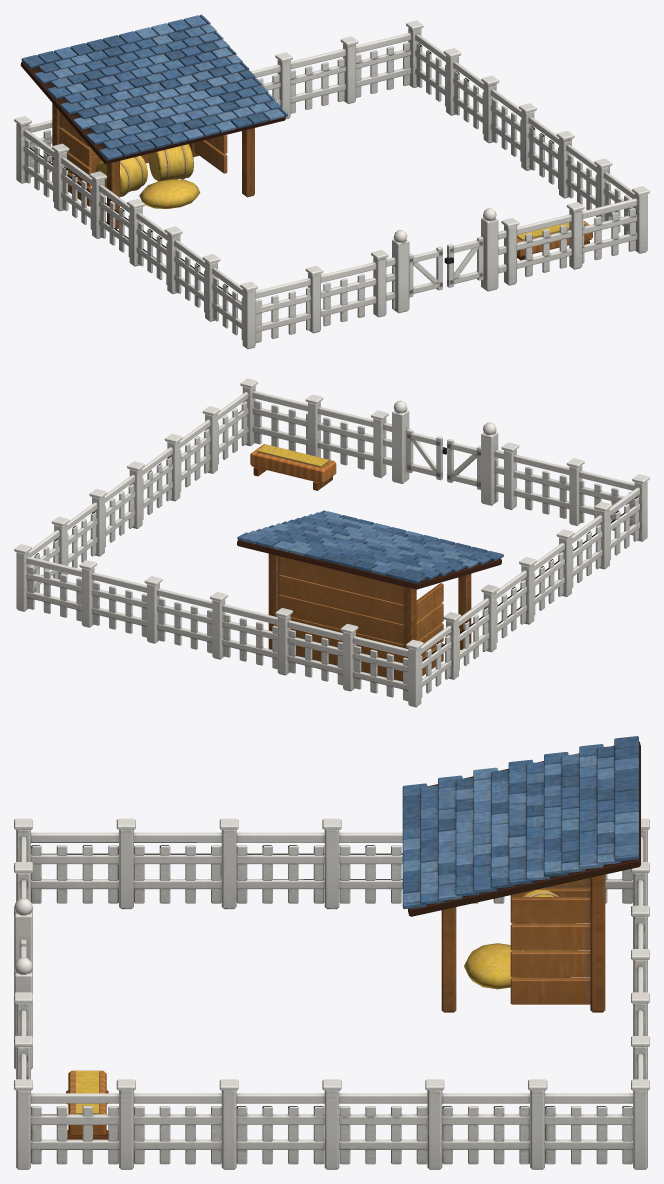
File: merino_fold.glb
3 renders of one model, top to bottom at view 1: azimuth 30°, elevation 25°; view 2: azimuth 150°, elevation 25°; view 3: azimuth 270°, elevation 25°, orthographic. The views are drawn at different scales.
Visible parts, largest first — view 1: merino_fold, gate1, gate0; view 2: merino_fold, gate1, gate0; view 3: merino_fold.
Part boxes in pixels (<box>): merino_fold: <box>14,14,649,349</box>; gate1: <box>444,236,483,287</box>; gate0: <box>409,246,442,297</box>; merino_fold: <box>14,378,649,707</box>; gate1: <box>406,429,446,480</box>; gate0: <box>447,439,480,489</box>; merino_fold: <box>14,736,649,1169</box>.
Bounding box in the file's own units: 2.99 × 0.9346 × 2.99.
1 material, 1 textured.
